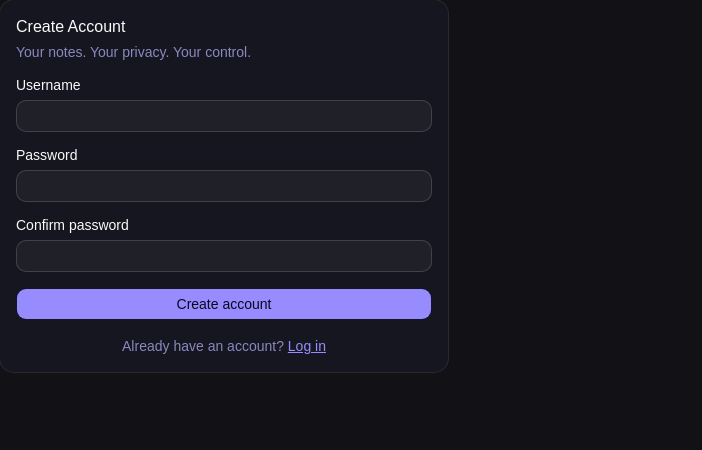
Test: RegisterPage › shows validation error for password mismatch
Type "testuser" into the field labelled "Username" at [224, 116], box 16,100 -> 432,132
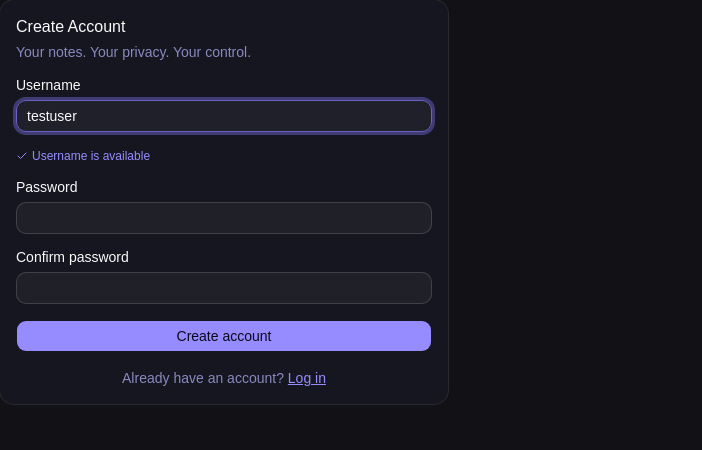
Expected: the text "Username is available" is shown, 16,149 -> 150,163
Type "testpass123" into the password field labelled "Password" at [224, 218], box 16,202 -> 432,234
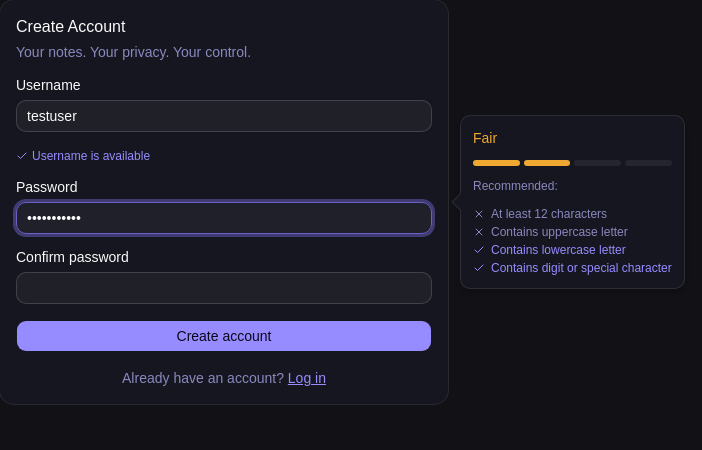
Type "different123" into the password field labelled "Confirm password" at [224, 288], box 16,272 -> 432,304
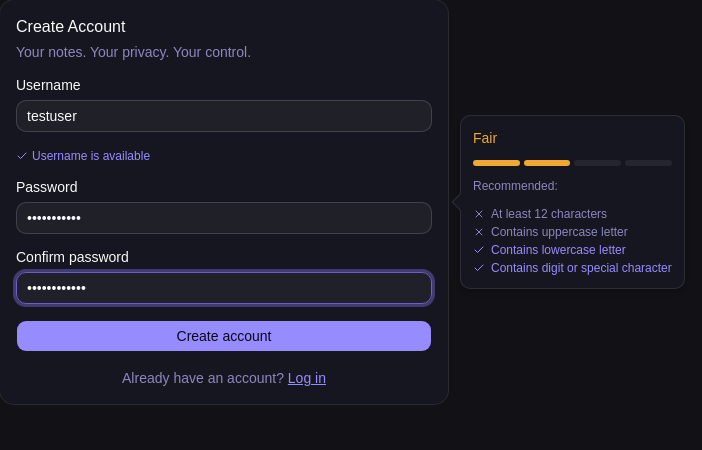
Click the button "Create account" at [224, 336], box 16,320 -> 432,352
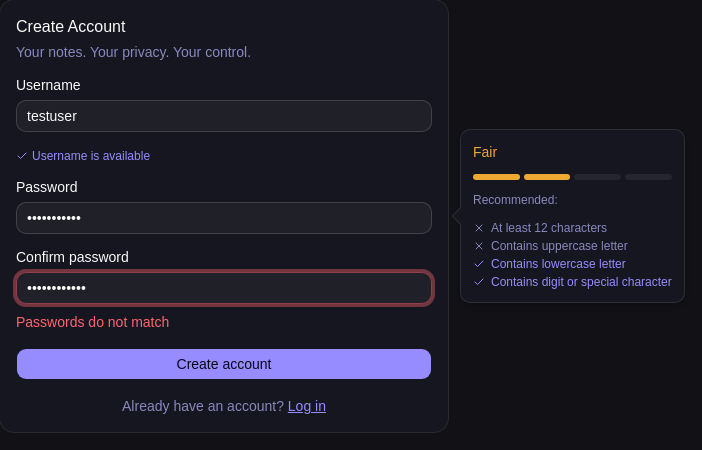
Expected: the text "Passwords do not match" is shown, 16,314 -> 169,330
